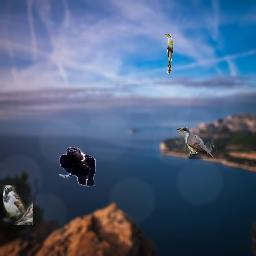Crow: (59, 147, 96, 187)
Cuckoo: (177, 127, 217, 159), (165, 34, 173, 74)
Sparrow: (3, 185, 33, 225)
